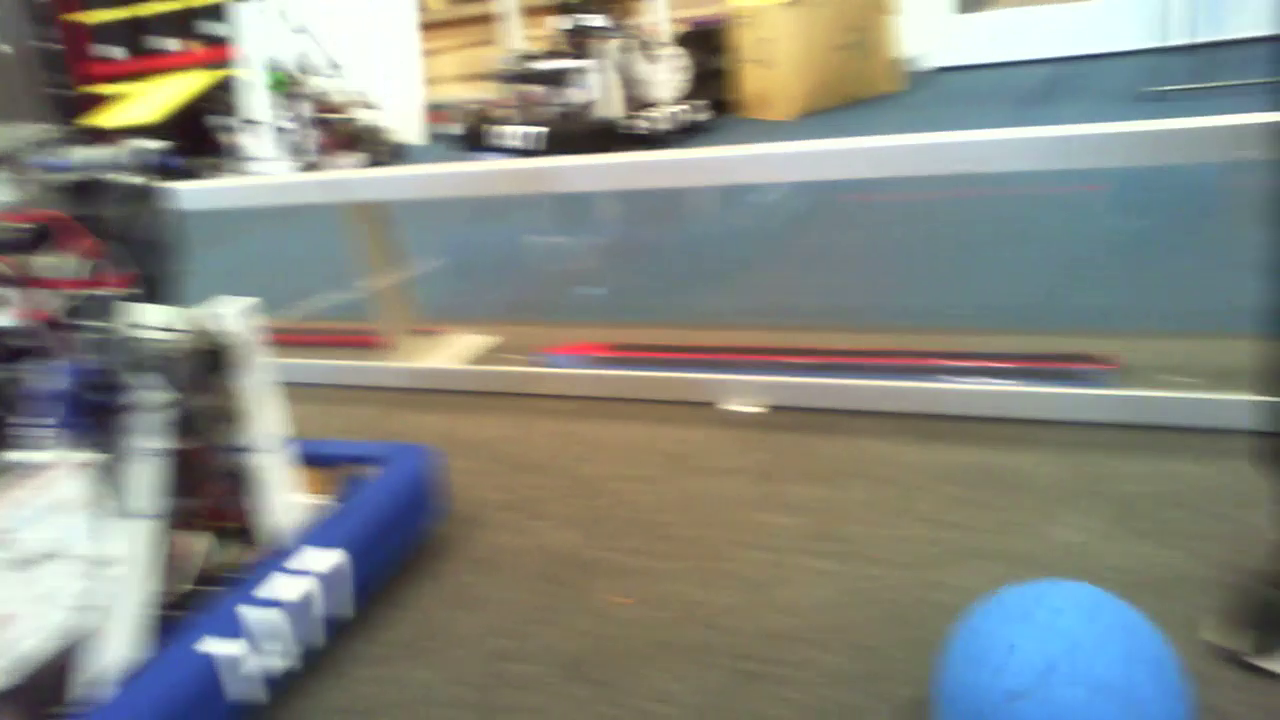blue_cargo: (920, 570, 1199, 720)
blue_robot: (1, 169, 528, 715)
